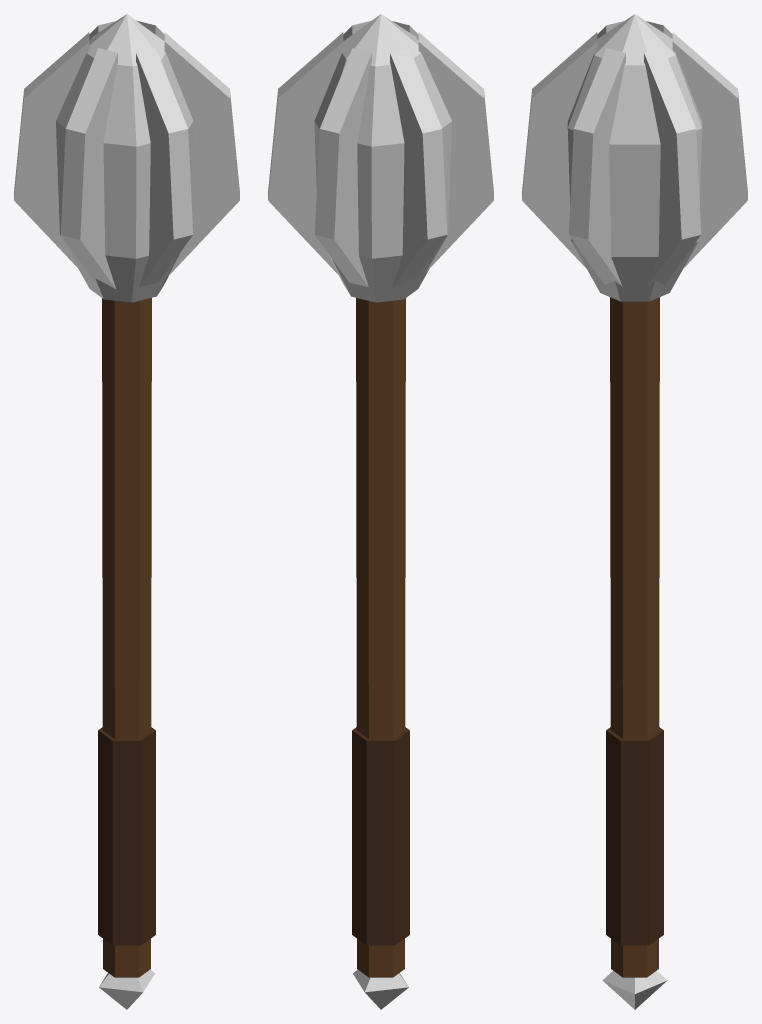
Rendered from weapon_mace.glb.
The picture shows the model from 3 angles, left to right: view 1: azimuth 30°, elevation 25°; view 2: azimuth 150°, elevation 25°; view 3: azimuth 270°, elevation 25°; orthographic projection.
Visible parts, largest first — view 1: weapon_mace; view 2: weapon_mace; view 3: weapon_mace.
Boxes of the visible parts, x1,y1,x2,y2 form: weapon_mace: [14, 14, 239, 1009]; weapon_mace: [268, 14, 493, 1009]; weapon_mace: [522, 14, 747, 1009].
Size of the model in its own units: 0.1649 by 0.876 by 0.18.
